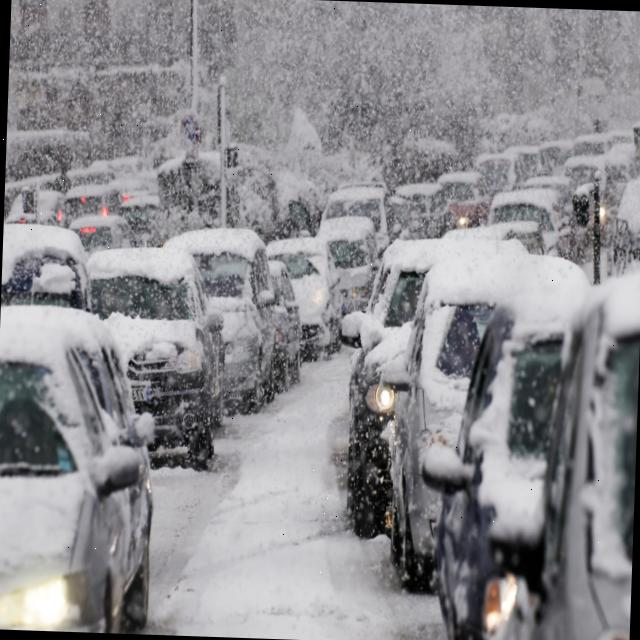car: (394, 252, 565, 580), (0, 308, 166, 631), (82, 250, 225, 453), (344, 242, 422, 536), (186, 232, 272, 414), (263, 236, 338, 362), (310, 216, 382, 342), (255, 246, 312, 380), (71, 205, 135, 267), (438, 166, 492, 228), (57, 180, 118, 232)
